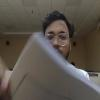notebook: (5, 31, 99, 99)
